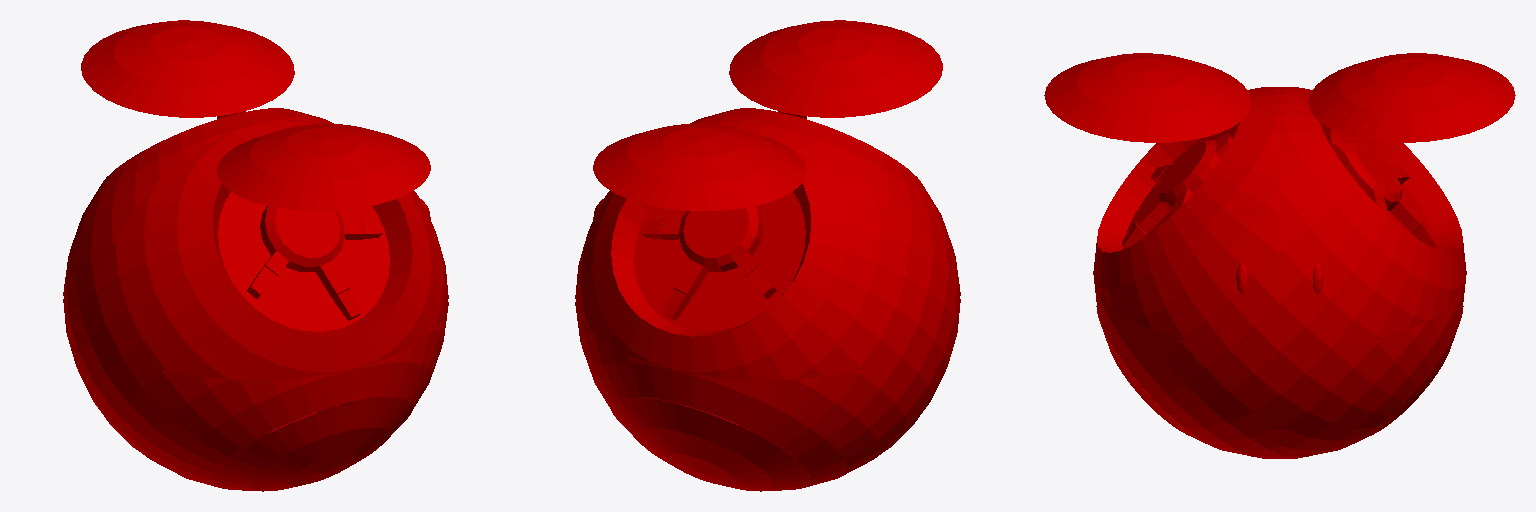
URDF robot description (haro):
<?xml version="1.0" encoding="UTF-8"?>
<robot name="haro">

    <!-- Colours for RVIZ for geometric elements -->
    <material name="blue">
        <color rgba="0 0 0.8 1"/>
    </material>
    <material name="red">
        <color rgba="0.8 0 0 1"/>
    </material>
    <material name="green">
        <color rgba="0 0.8 0 1"/>
    </material>
    <material name="grey">
        <color rgba="0.75 0.75 0.75 1"/>
    </material>
    <material name="white">
        <color rgba="1.0 1.0 1.0 1"/>
    </material>
    <material name="black">
        <color rgba="0 0 0 1"/>
    </material>


	<!-- * * * Link Definitions * * * -->
    <link name="haro_base_link">
 	    <inertial>
            <origin xyz="0 0 0" rpy="0 0 0"/>
            <mass value="0.01" />
            <inertia ixx="1.28e-06" ixy="0.0" ixz="0.0" iyy="1.28e-06" iyz="0.0" izz="1.28e-06"/>
        </inertial>
        <visual>
            <origin rpy="0.0 0 0" xyz="0 0 0"/>
            <geometry>
                <sphere radius="0.008"/>
            </geometry>
            <material name="black"/>
        </visual>
	</link>
	
	<gazebo reference="haro_base_link">
        <material>Gazebo/Black</material>
        <gravity>0</gravity>
    </gazebo>

    <link name="body_link">
 	    <inertial>
            <origin xyz="0 0 0" rpy="0 0 0"/>
            <mass value="1.0" />
            <inertia ixx="0.00576" ixy="0.0" ixz="0.0" iyy="0.00576" iyz="0.0" izz="0.00576"/>
        </inertial>
        <collision>
            <origin xyz="0 0 0" rpy="0 0 0"/>
            <geometry>
                <sphere radius="0.1"/>
            </geometry>
        </collision>
        <visual>
            <origin rpy="0.0 0 0" xyz="0 0 0"/>
            <geometry>
                <!--<sphere radius="0.12"/>-->
                <mesh filename="package://haro_description/meshes/haro_gundam_red_v1.dae" scale="1 1 1"/>
            </geometry>
            <material name="red"/>
        </visual>
    </link>
    
    <gazebo reference="body_link">
        <kp>100000.0</kp>
        <kd>100000.0</kd>
        <mu1>10.0</mu1>
        <mu2>10.0</mu2>
        <material>Gazebo/Red</material>
        <gravity>0</gravity>
    </gazebo>


    <joint name="body_link_joint" type="fixed">
        <parent link="haro_base_link"/>
        <child link="body_link"/>
        <origin xyz="0 0 0" rpy="0 0 0"/>
    </joint>
    
</robot>

--- Facts derived from the render (not from the file) ---
3 views of the same robot in one strip: view 1: azimuth 30°, elevation 25°; view 2: azimuth 150°, elevation 25°; view 3: azimuth 270°, elevation 25° (orthographic).
Model haro with 2 links and 1 joints (1 fixed), rooted at haro_base_link, posed all joints at 0.
Links seen in each view (by area): view 1: body_link; view 2: body_link; view 3: body_link.
Link boxes in pixels (x1,y1,x2,y2): body_link: (63,20,448,491); body_link: (575,20,960,491); body_link: (1044,53,1515,458).
Size in the robot's own frame: 0.1 by 0.1262 by 0.1098 metres.
1 mesh visuals loaded from 1 distinct referenced files (1 Collada DAE).
